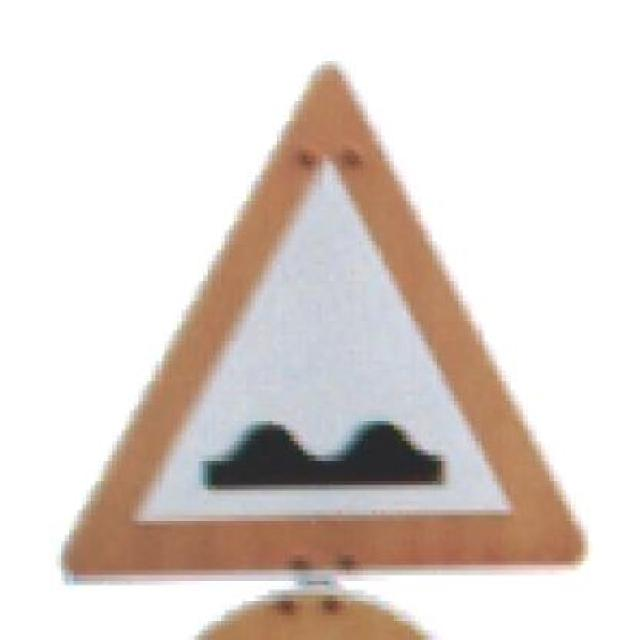Uneven Road: (52, 55, 593, 580)
